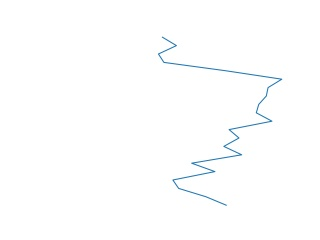floodPlain: (156, 35, 285, 208)
